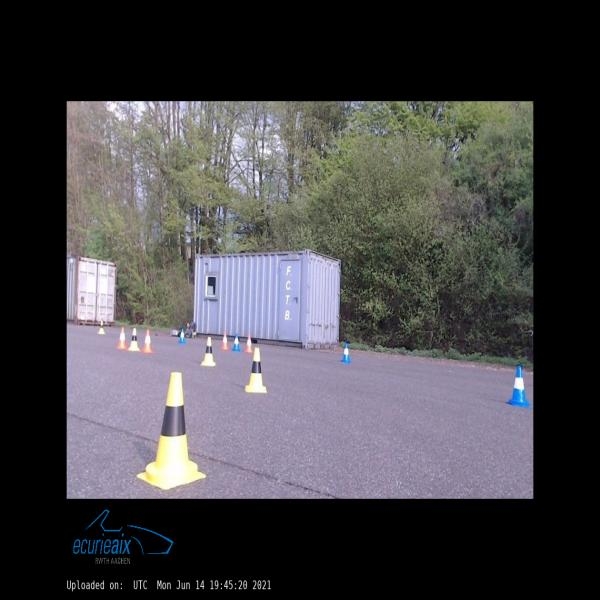blue_cone: (506, 366, 530, 407), (232, 332, 241, 351), (342, 343, 350, 363), (179, 329, 186, 344)
orange_cone: (141, 330, 154, 352), (117, 328, 128, 348), (221, 332, 229, 350), (245, 335, 253, 352)
yellow_cone: (137, 372, 206, 490), (245, 348, 266, 392), (200, 337, 216, 366), (129, 328, 140, 351), (98, 319, 105, 334)
